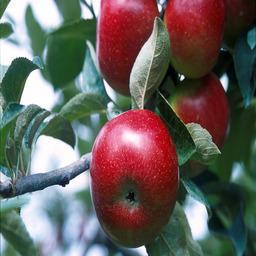apple: (89, 109, 179, 247), (97, 1, 166, 96), (163, 1, 226, 77), (170, 72, 230, 147)
